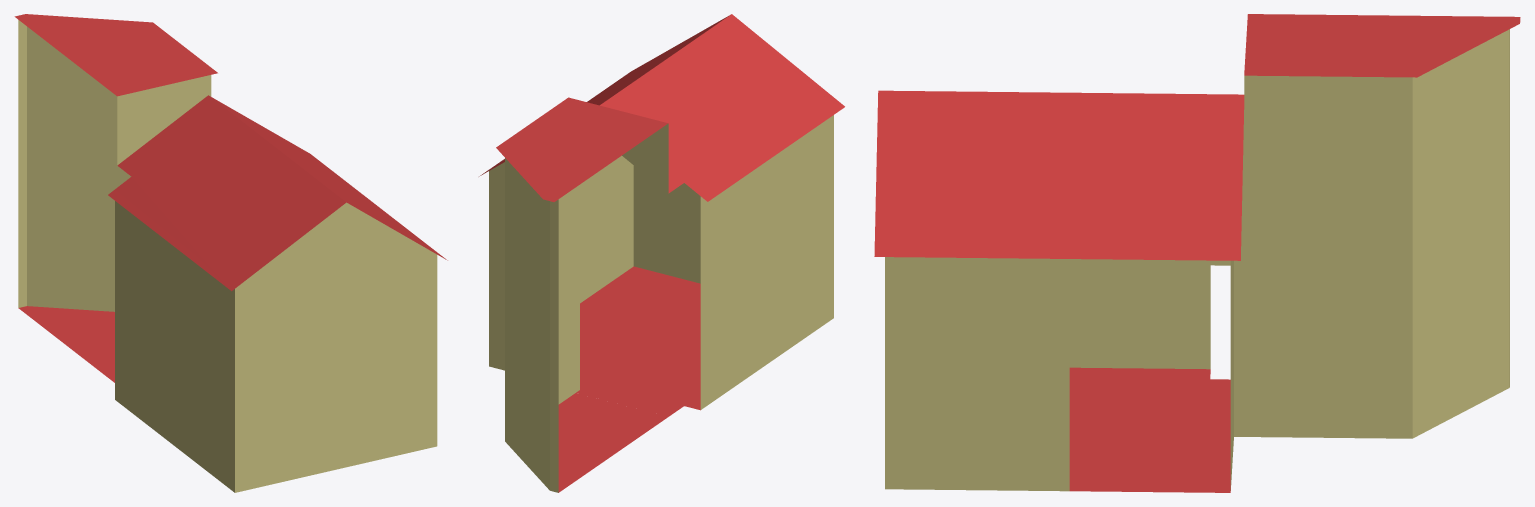
3 views of the same model, side by side, from view 1: azimuth 30°, elevation 25°; view 2: azimuth 150°, elevation 25°; view 3: azimuth 270°, elevation 25° (orthographic). The views are drawn at different scales.
Size of the model in its own units: 7.76 by 15.55 by 9.71.
